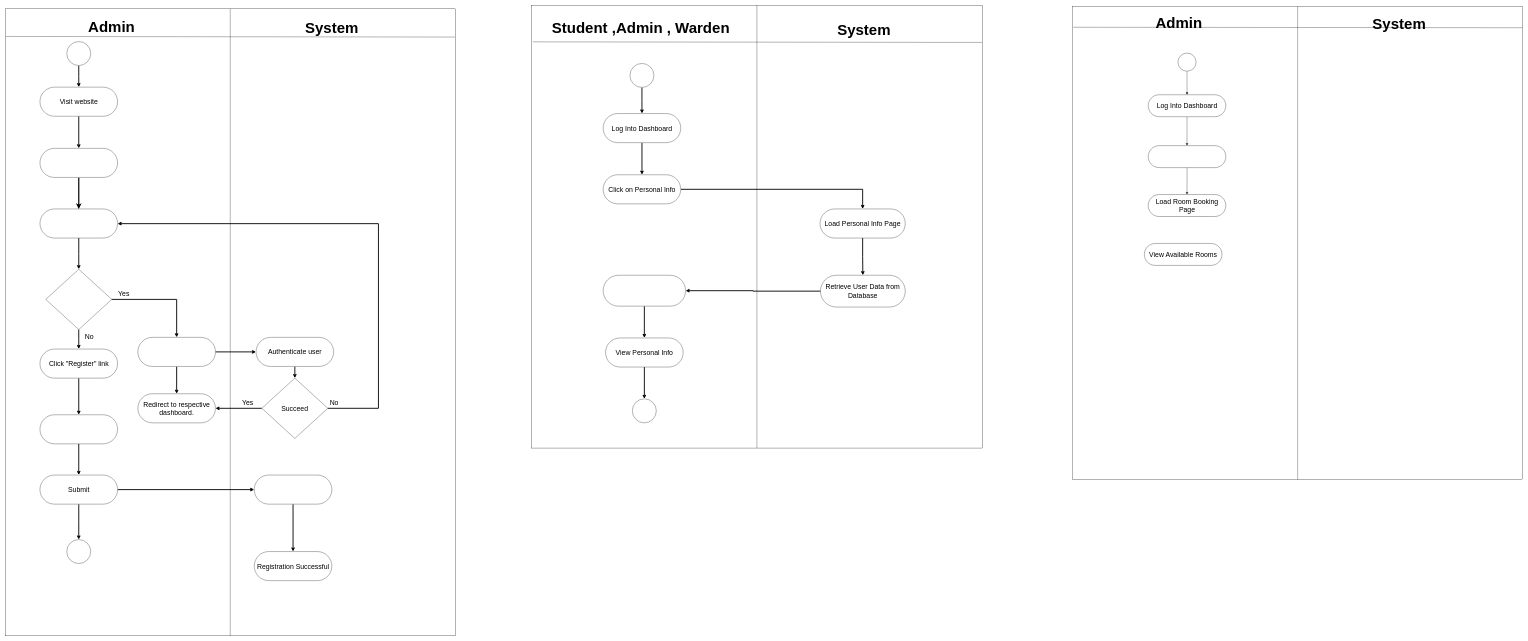
The diagram is 1528 pixels wide and 641 high, and some of its shapes have lost their labels. The shapes that lost their labels are listed below. From the top down, each one's centre as x and y in pixels, then its label:
At (x=79, y=162): "Select user type".
At (x=1187, y=156): "Click on Room Booking".
At (x=79, y=223): "Redirect to login page".
At (x=78, y=299): "Already have an Account?".
At (x=644, y=290): "Display User Information".
At (x=176, y=351): "Log In".
At (x=79, y=429): "Fill registration form".
At (x=293, y=489): "Validate and save data".
